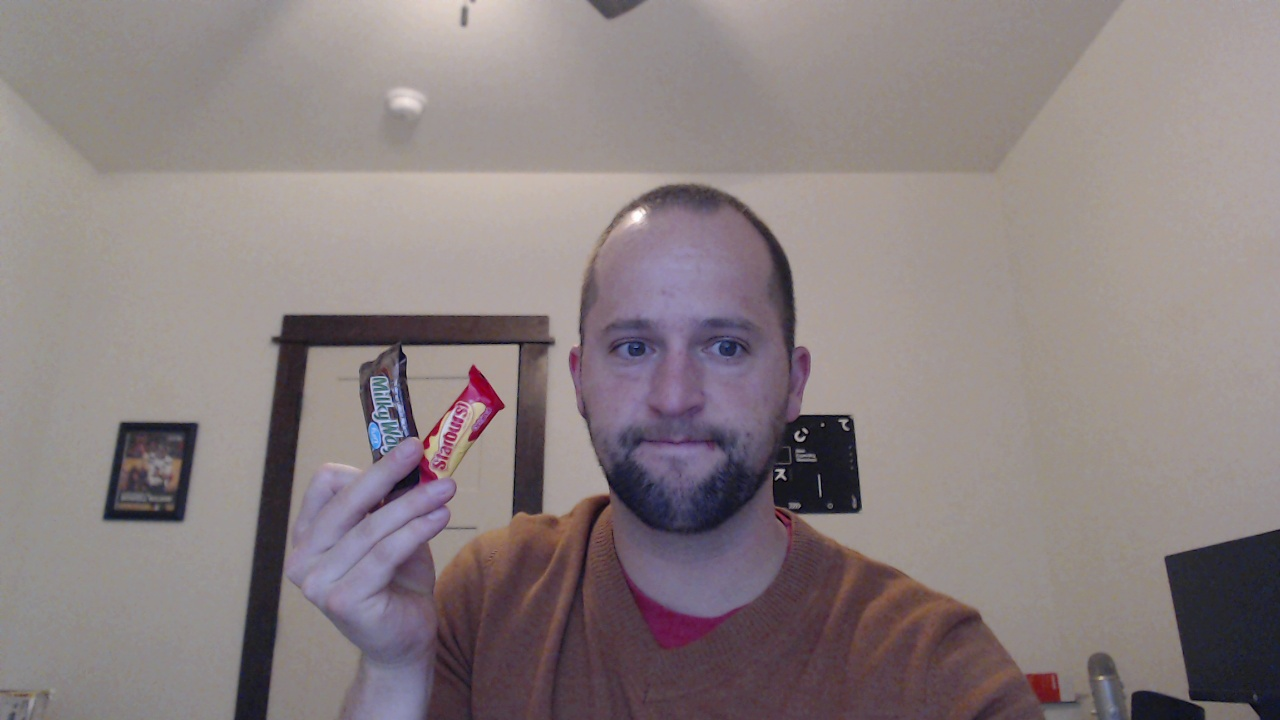milky_way: (337, 356, 433, 475)
starbust: (416, 358, 527, 509)
